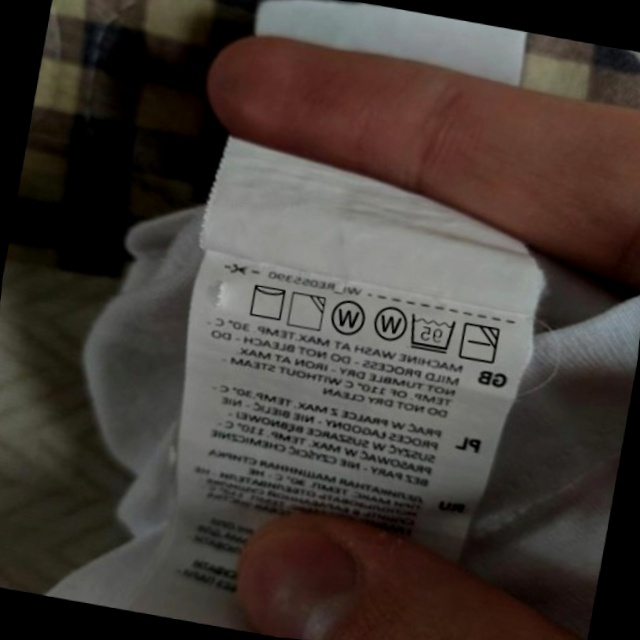95C: (402, 307, 461, 358)
dry_flat_in_shade: (455, 316, 505, 369)
line_dry: (242, 277, 292, 326)
shade_dry: (282, 286, 331, 336)
wet_clean: (324, 294, 371, 343), (366, 297, 412, 347)
